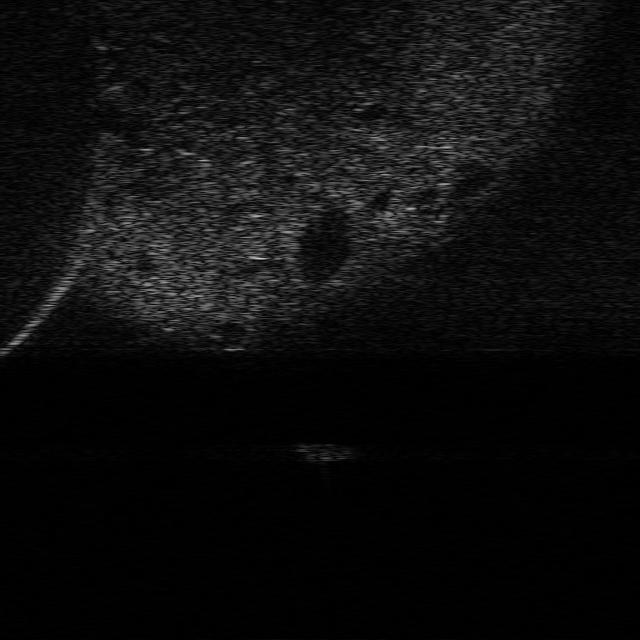cube: (294, 439, 355, 464)
